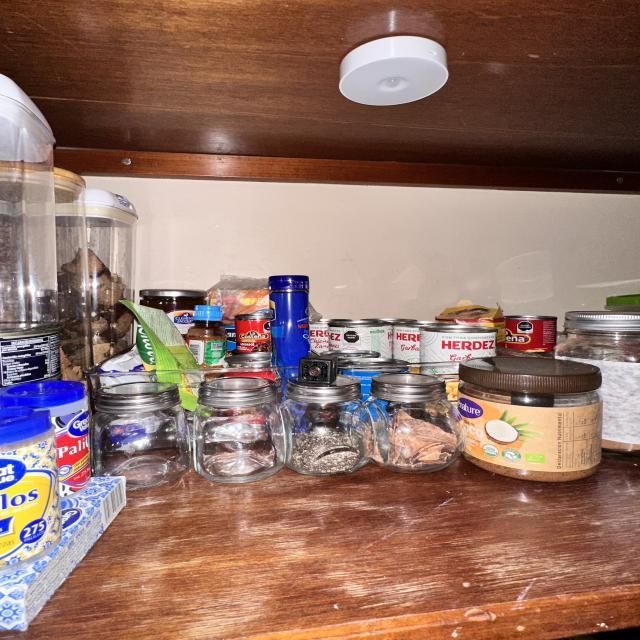hidden camera: (309, 367, 320, 376)
